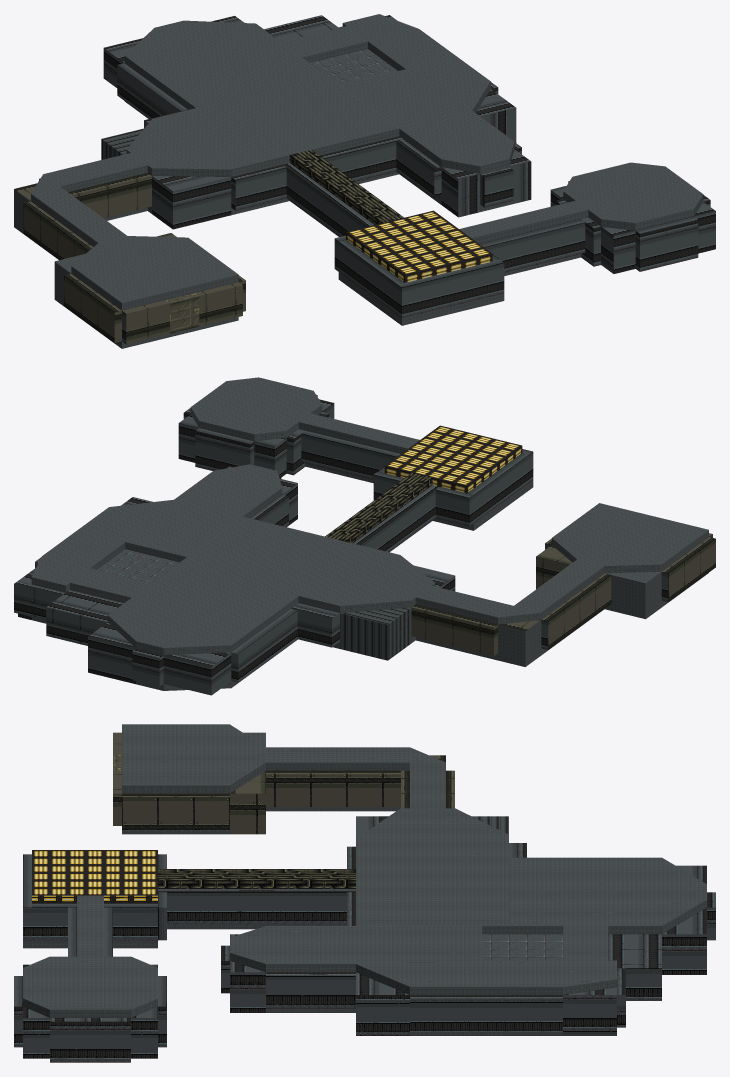
File: map.glb
3 views of the same model, one above another, from view 1: azimuth 30°, elevation 25°; view 2: azimuth 150°, elevation 25°; view 3: azimuth 270°, elevation 25° (orthographic). The views are drawn at different scales.
Visible parts, largest first — view 1: entity0_brush71, entity0_brush77, entity0_brush86, entity0_brush26, entity0_brush5, entity0_brush73, entity0_brush72, entity0_brush0, entity0_brush39, entity0_brush74, entity0_brush79, entity0_brush10 (+33 smaller); view 2: entity0_brush71, entity0_brush77, entity0_brush86, entity0_brush26, entity0_brush5, entity0_brush72, entity0_brush73, entity0_brush34, entity0_brush30, entity0_brush74, entity0_brush80, entity0_brush57 (+28 smaller); view 3: entity0_brush71, entity0_brush77, entity0_brush86, entity0_brush26, entity0_brush11, entity0_brush5, entity0_brush56, entity0_brush73, entity0_brush82, entity0_brush74, entity0_brush72, entity0_brush85 (+28 smaller).
Boxes of the visible parts, box(x1,y1,x2,y2) form: entity0_brush71: box(126, 76, 399, 176); entity0_brush77: box(124, 20, 326, 109); entity0_brush86: box(71, 236, 238, 310); entity0_brush26: box(563, 162, 703, 230); entity0_brush5: box(346, 210, 492, 282); entity0_brush73: box(399, 110, 514, 173); entity0_brush72: box(340, 69, 464, 128); entity0_brush0: box(397, 259, 504, 317); entity0_brush39: box(152, 176, 231, 229); entity0_brush74: box(393, 47, 490, 112); entity0_brush79: box(480, 219, 585, 272); entity0_brush10: box(289, 150, 403, 224); entity0_brush71: box(175, 516, 435, 612); entity0_brush77: box(108, 566, 298, 654); entity0_brush86: box(552, 503, 708, 573); entity0_brush26: box(190, 377, 322, 441); entity0_brush5: box(384, 425, 522, 493); entity0_brush72: box(125, 501, 242, 562); entity0_brush73: box(174, 464, 282, 518); entity0_brush34: box(340, 607, 411, 660); entity0_brush30: box(411, 604, 497, 655); entity0_brush74: box(66, 499, 180, 557); entity0_brush80: box(301, 431, 400, 479); entity0_brush57: box(46, 590, 123, 645); entity0_brush71: box(356, 808, 508, 934); entity0_brush77: box(509, 857, 706, 934); entity0_brush86: box(122, 724, 265, 793); entity0_brush26: box(23, 956, 157, 1017); entity0_brush11: box(158, 888, 355, 924); entity0_brush5: box(32, 850, 157, 903); entity0_brush56: box(410, 995, 562, 1031); entity0_brush73: box(230, 926, 355, 972); entity0_brush82: box(266, 770, 400, 806); entity0_brush74: box(356, 960, 508, 994); entity0_brush72: box(356, 926, 481, 960); entity0_brush85: box(122, 793, 229, 829).
Bounding box in the file's own units: 1232 × 96 × 1248.
11 materials, 11 textured.
